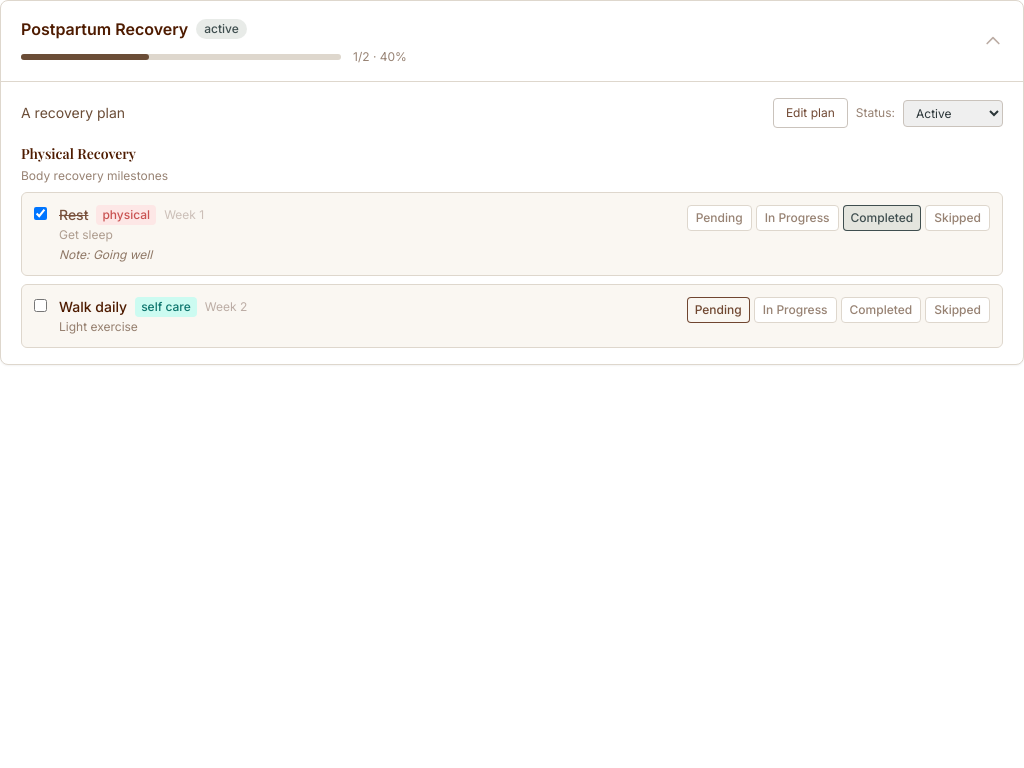
CarePlanCard › enters edit mode when Edit plan clicked
This screenshot has width=1024, height=768.
What coordinates should you click on to do the following:
click the button "Edit plan"
I would click on:
 (810, 113)
Its box is [773, 98, 848, 128].
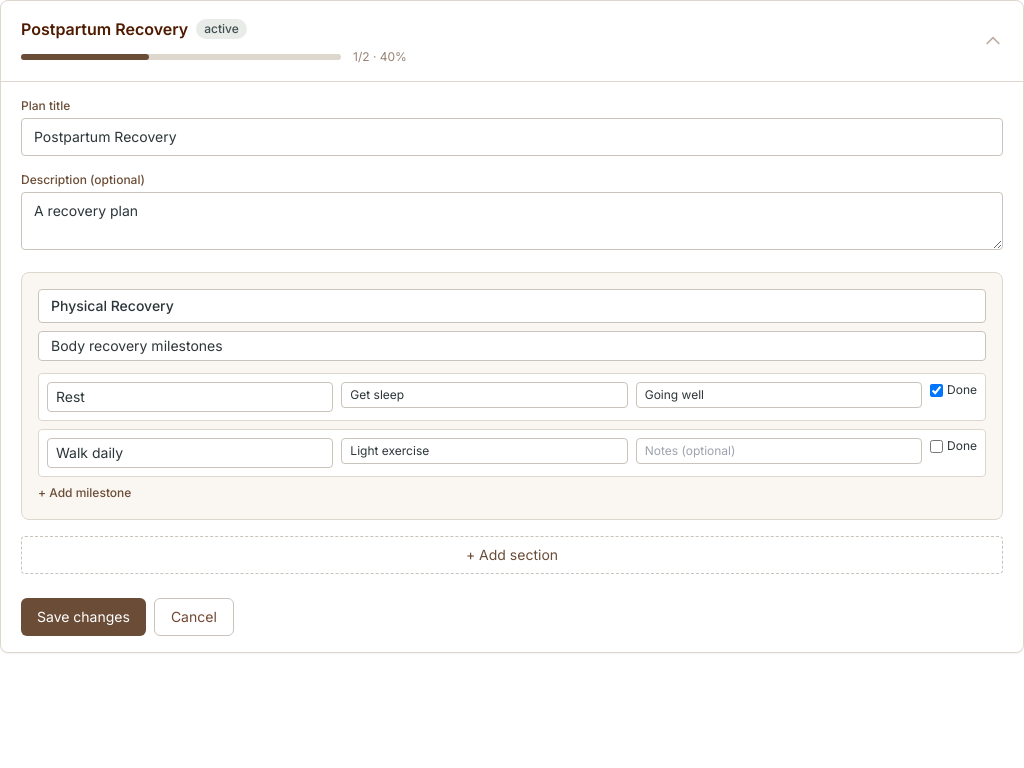
Expected: the field showing "Postpartum Recovery" below "Plan title" is shown, [21, 118, 1003, 156]
Expected: the button "Save changes" is shown, [21, 598, 146, 636]
